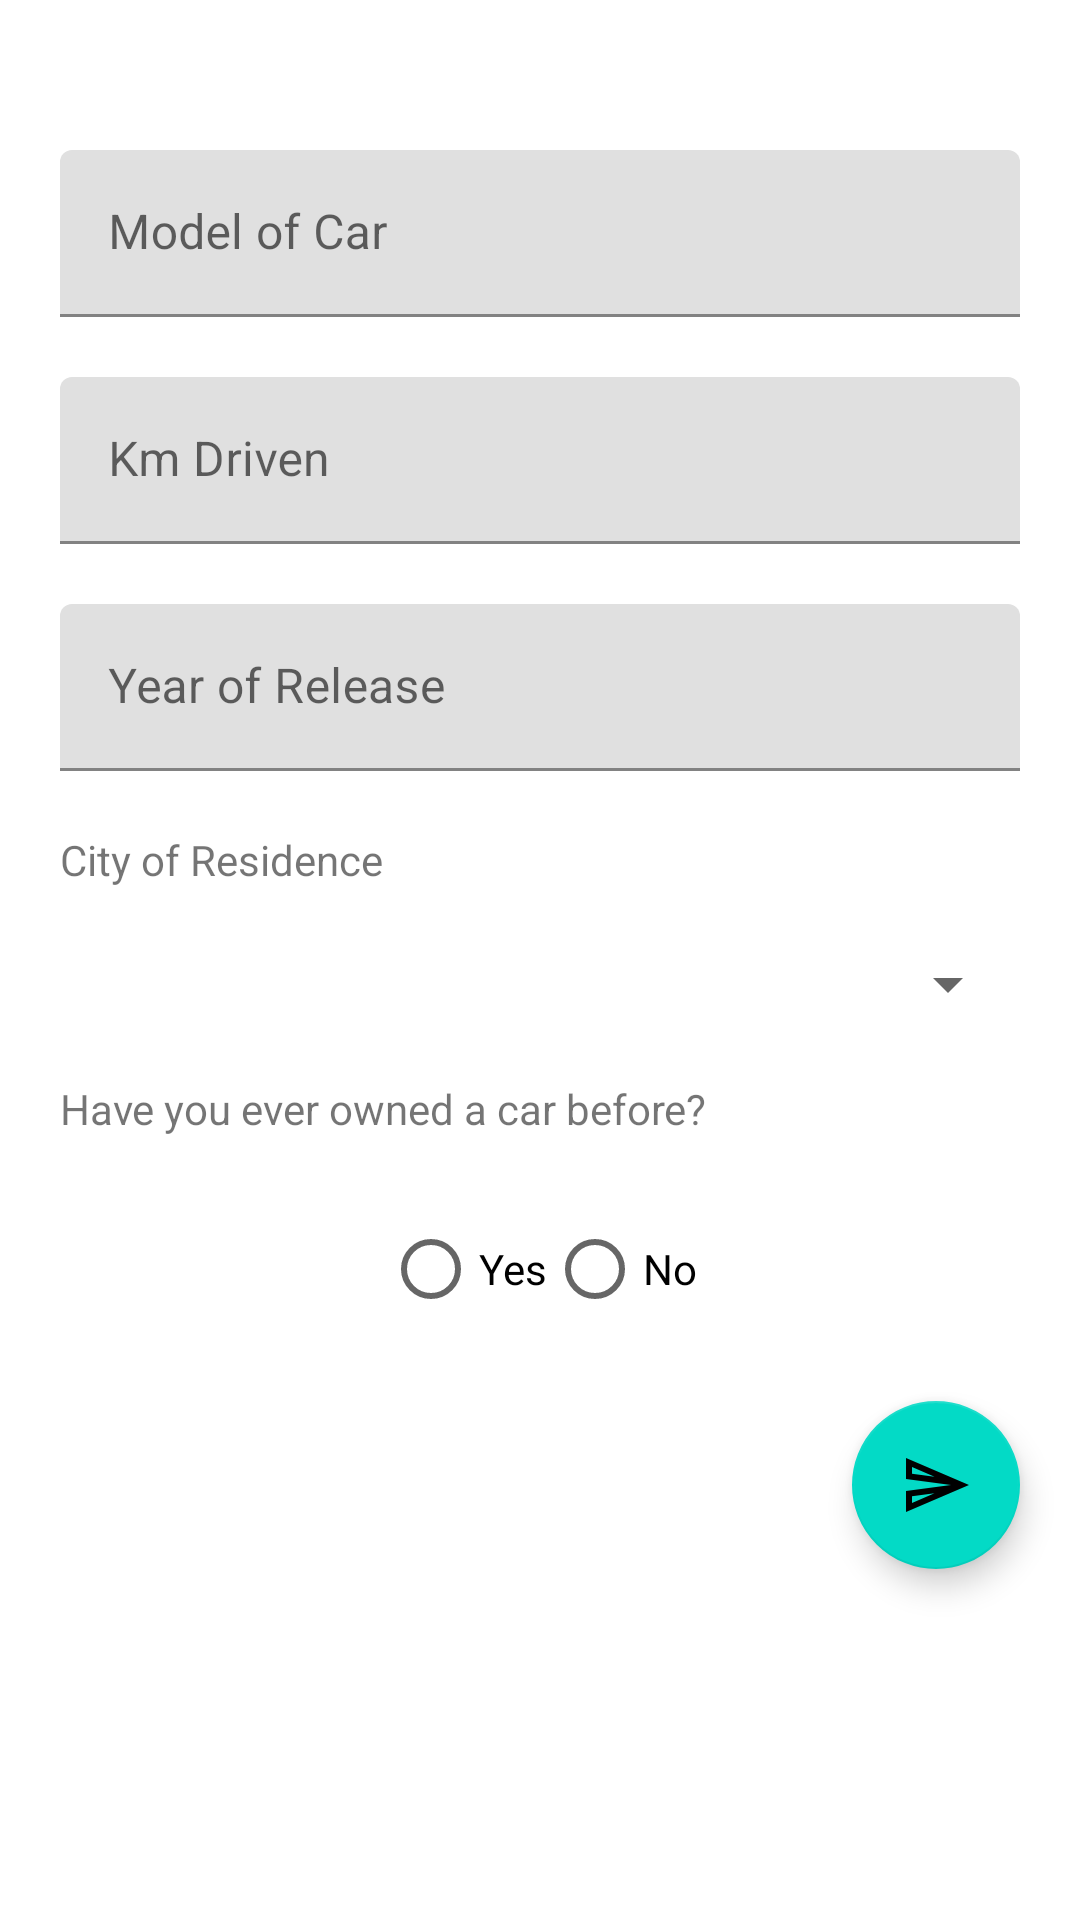

Icons on this 1080×1920 Android screen, each with its box as (x1, y1, x2, y2):
send: (852, 1401, 1020, 1569)
